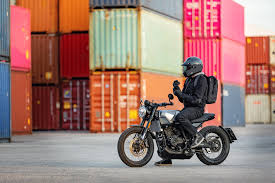motorcycle: (115, 95, 237, 169)
